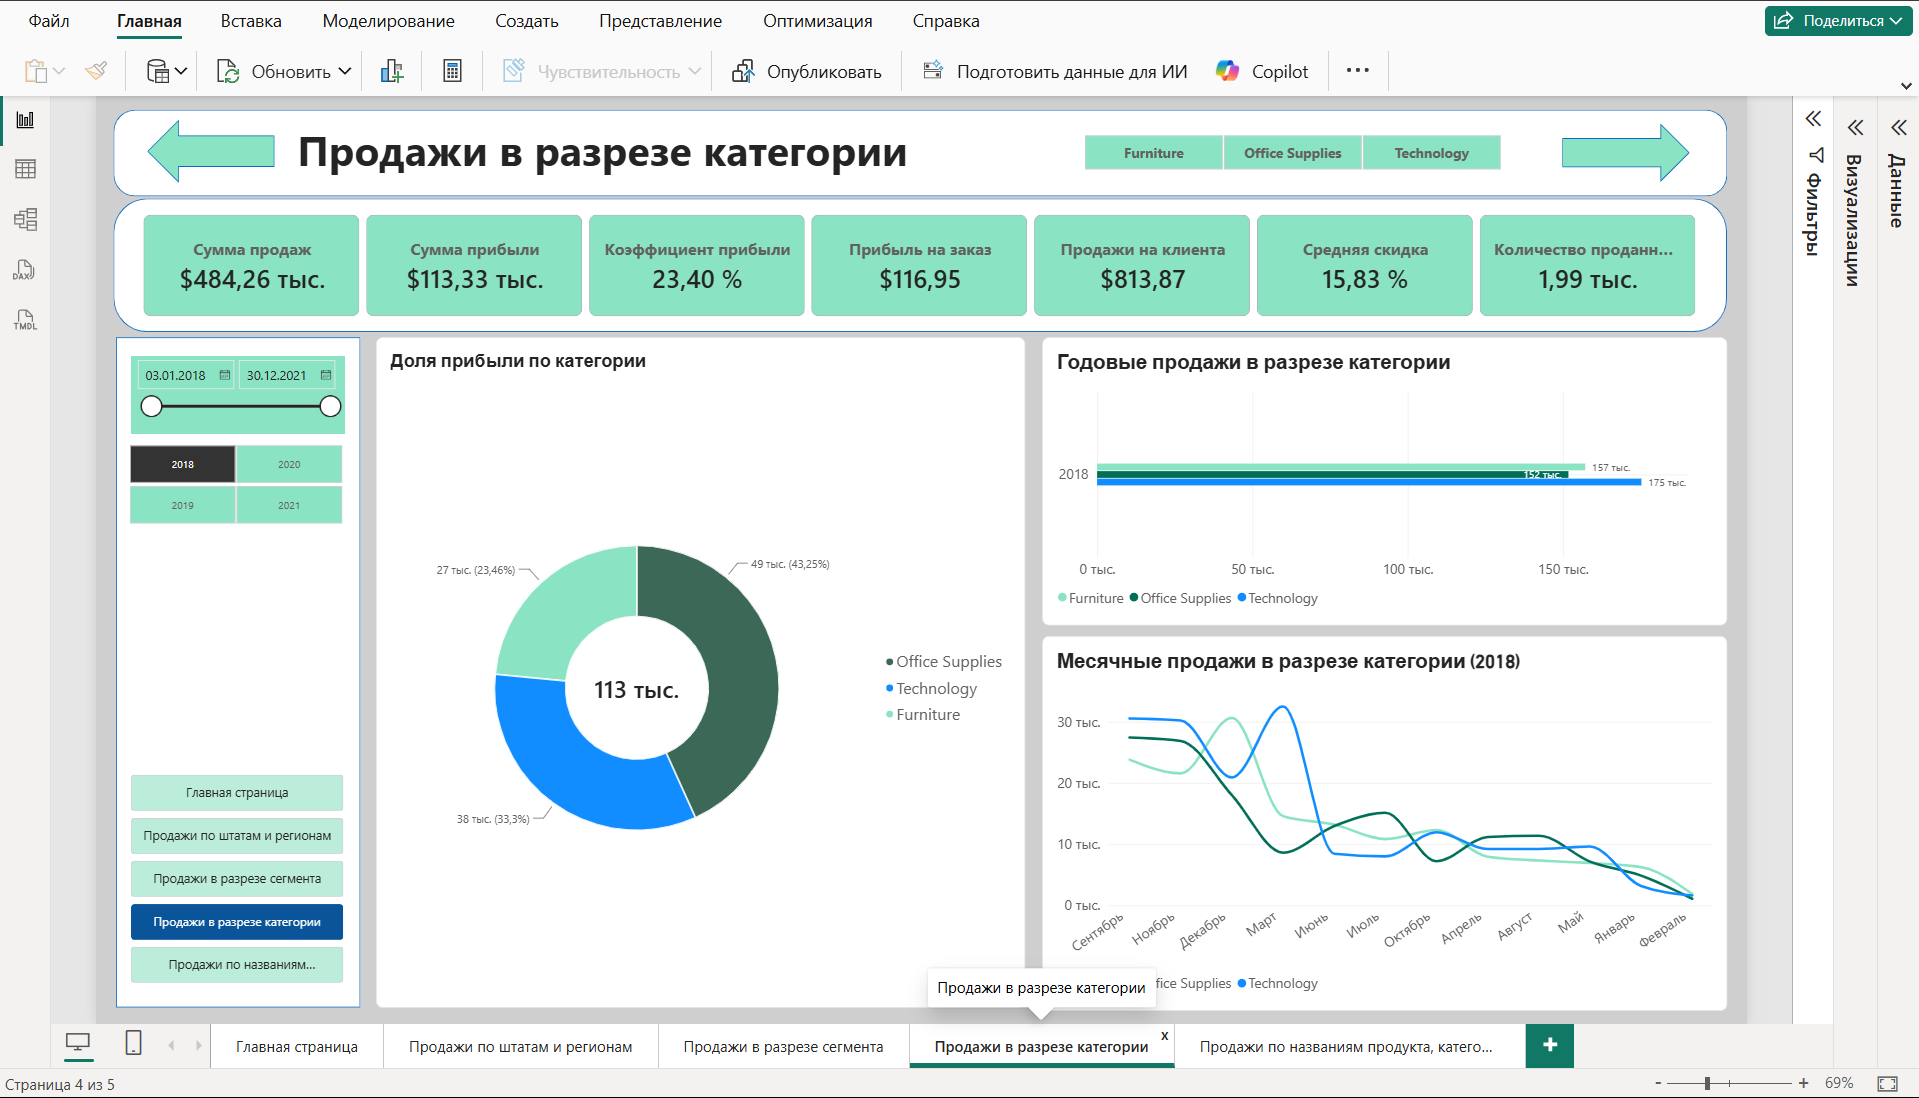

What the dashboard file says about the page in this screenshot:
{"tool":"powerbi","page":{"name":"Продажи в разрезе категории","canvas":[1920,1080],"ordinal":3},"visuals":[{"type":"shape","box":[20.6,16.5,1877.2,100.9],"z":0},{"type":"shape","box":[1705.8,31.4,148.3,68],"z":1000},{"type":"textbox","box":[234.6,28.8,724.5,90.6],"z":2000},{"type":"slicer","title":"Категория","fields":{"Values":["Sample - Superstore_Orders.Category"]},"box":[1130.2,43.6,522.8,43.2],"z":3000},{"type":"clusteredBarChart","title":"Годовые продажи в разрезе категории","fields":{"Category":["Календарь.Год"],"Y":["Sum(Sample - Superstore_Orders.Sales)"],"Series":["Sample - Superstore_Orders.Category"]},"box":[1100.6,280.8,797.1,334.9],"z":4000},{"type":"lineChart","title":"Месячные продажи в разрезе категории (2018)","fields":{"Category":["Календарь.Месяц"],"Y":["Sum(Sample - Superstore_Orders.Sales)"],"Series":["Sample - Superstore_Orders.Category"]},"box":[1100.6,627.9,797.1,436],"z":5000},{"type":"shape","box":[59.3,27.9,148.3,73.3],"z":6000},{"type":"shape","box":[20.6,119.4,1876.7,155.2],"z":7000},{"type":"cardVisual","fields":{"Data":["Меры.Сумма продаж","Меры.Сумма прибыли","Меры.Коефкоэффициент прибыли","Меры.прибыль на заказ","Меры.продажи на клиента","Меры.средняя скидка","CountNonNull(Sample - Superstore_Orders.Quantity)"]},"box":[55.6,137.9,1805.2,118.6],"z":8000},{"type":"shape","box":[22.7,280.8,284.3,779.7],"z":9000},{"type":"pageNavigator","box":[40.1,790.1,247.7,245.9],"z":10000},{"type":"slicer","fields":{"Values":["Календарь.Date"]},"box":[40.1,301.7,247.7,90.7],"z":11000},{"type":"slicer","fields":{"Values":["Календарь.Год"]},"box":[19.2,404.7,286.1,94.7],"z":12000},{"type":"donutChart","title":"Доля прибыли по категории","fields":{"Y":["Sum(Sample - Superstore_Orders.Profit)"],"Category":["Sample - Superstore_Orders.Category"]},"box":[326.2,280.8,755.2,779.7],"z":13000}]}

Visuals, with their boxes on the page's 1920x1080 design canvas (x1, y1, x2, y2). These are canvas units, not pixel positions in the 1919x1098 screenshot, which may show the page scaled, cropped or inside an application window:
shape: 21, 16, 1898, 117
shape: 1706, 31, 1854, 99
textbox: 235, 29, 959, 119
"Категория" slicer: 1130, 44, 1653, 87
"Годовые продажи в разрезе категории" clusteredBarChart: 1101, 281, 1898, 616
"Месячные продажи в разрезе категории (2018)" lineChart: 1101, 628, 1898, 1064
shape: 59, 28, 208, 101
shape: 21, 119, 1897, 275
cardVisual - Меры.Сумма продаж x Меры.Сумма прибыли: 56, 138, 1861, 256
shape: 23, 281, 307, 1060
pageNavigator: 40, 790, 288, 1036
slicer - Календарь.Date: 40, 302, 288, 392
slicer - Календарь.Год: 19, 405, 305, 499
"Доля прибыли по категории" donutChart: 326, 281, 1081, 1060
